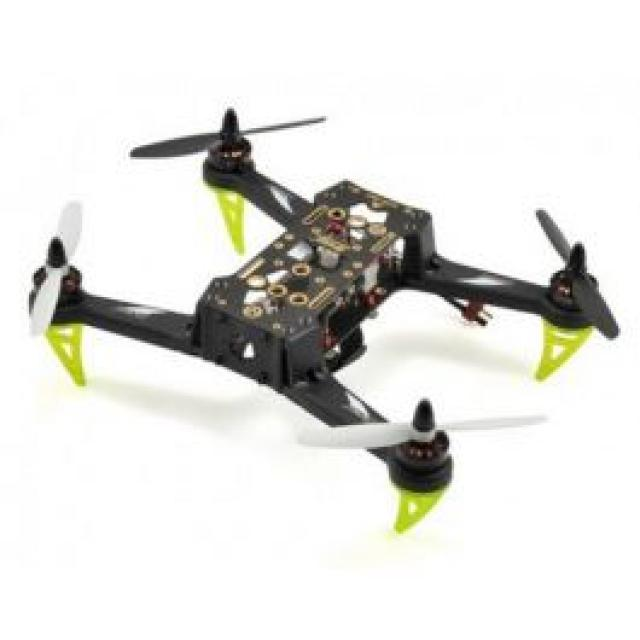drone: (31, 61, 640, 538)
